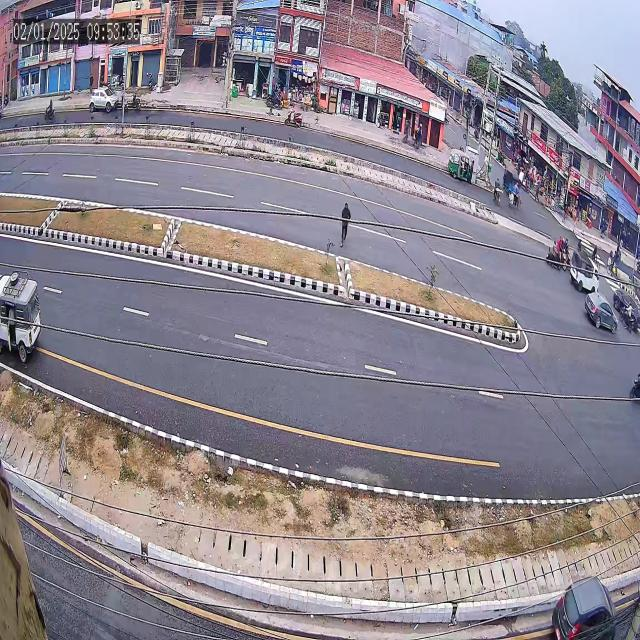van: (0, 258, 54, 365)
